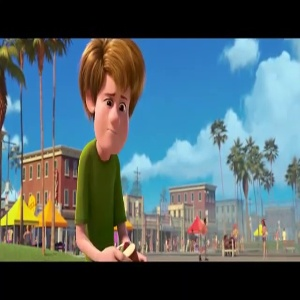Shagy: (76, 39, 146, 156)
